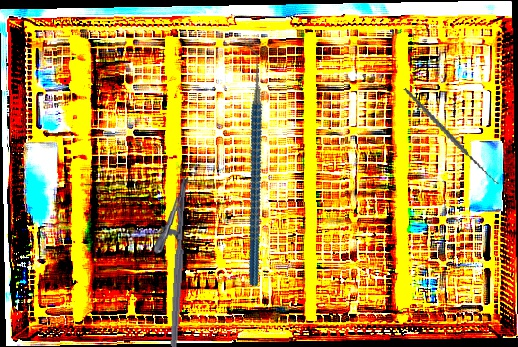Chopper: (164, 36, 337, 288)
Hook Surgical: (402, 70, 506, 201)
Needle Holder: (146, 175, 190, 347)
